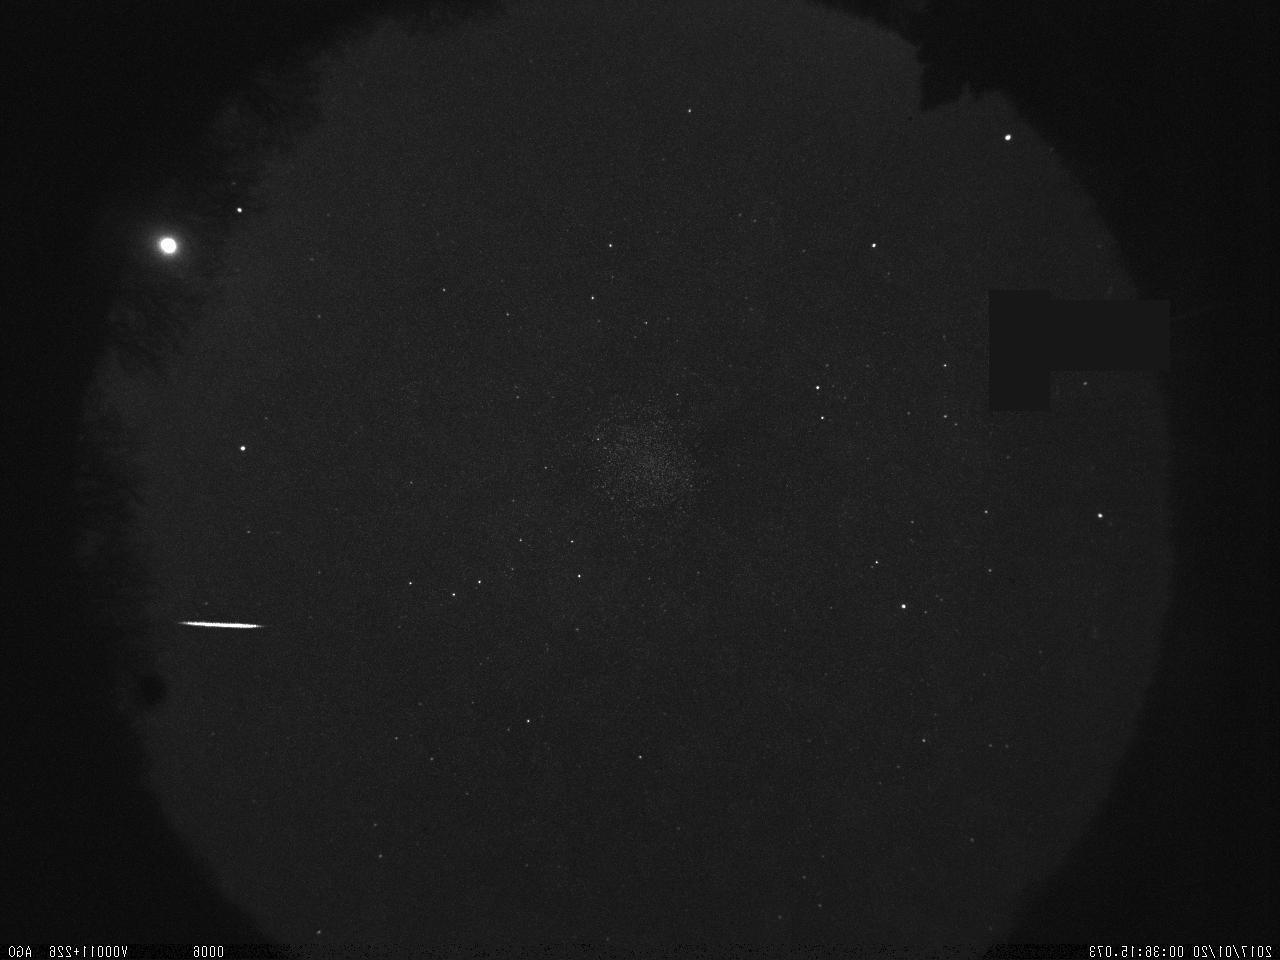meteor: (157, 611, 275, 639)
